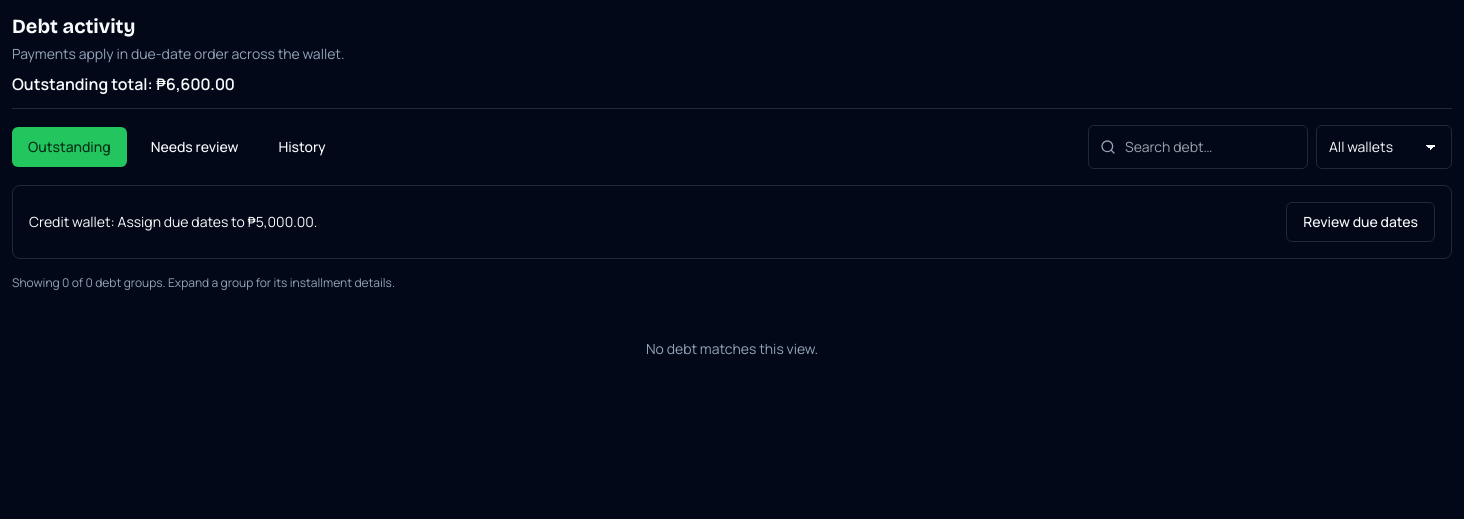
it: complete debt ledger keeps paid values and snapshot ordinal visible
Step 1. Click the button "History" → (302, 147), box 262,127 -> 342,167
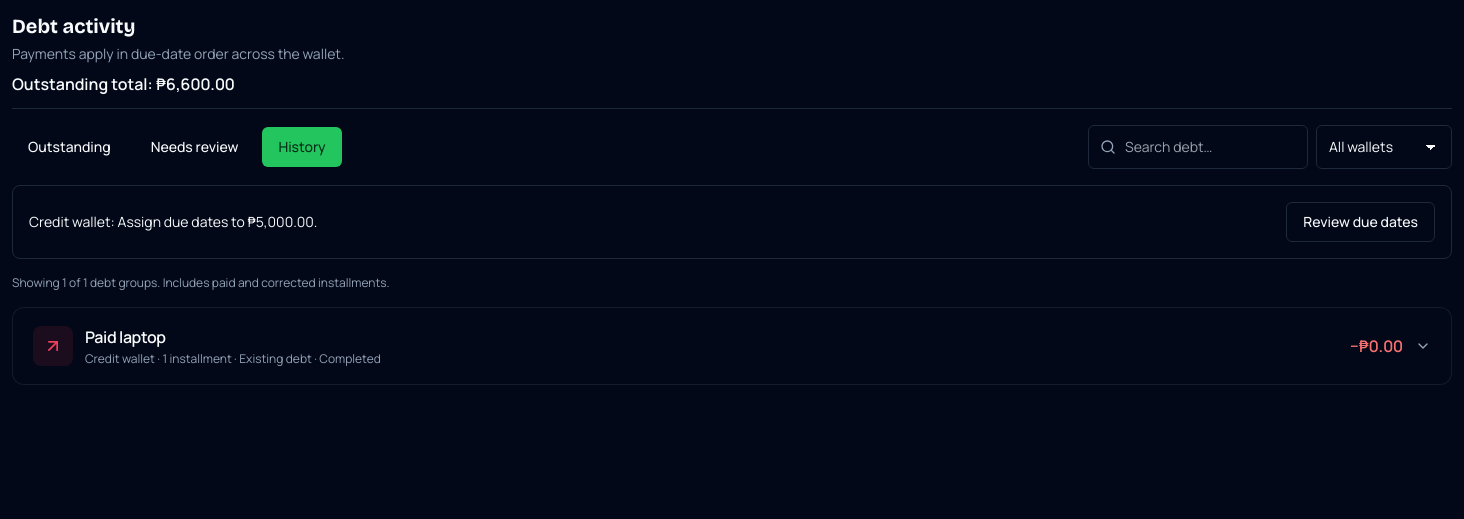
Step 2. Click the button with aria-label "show debt history for paid laptop" → (53, 346), box 33,324 -> 1431,368
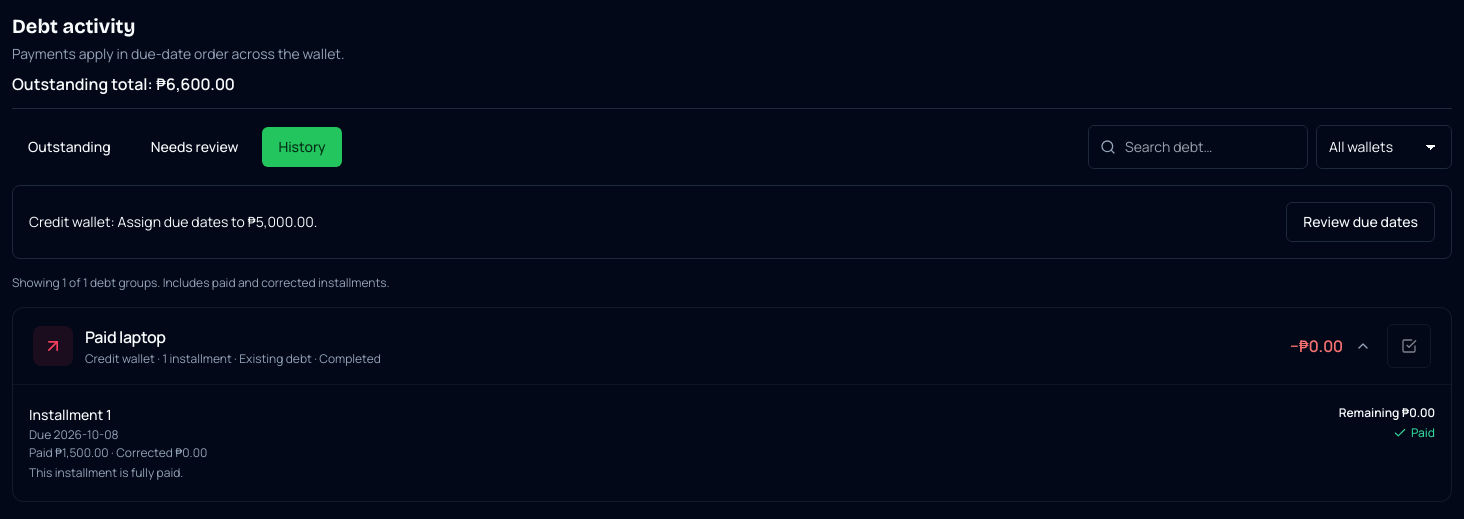
Expected: the text "Installment 1" is shown, 29,405 -> 112,424
Expected: the text "Remaining ₱0.00" is shown once, 1339,405 -> 1435,421
Expected: the text "Paid ₱1,500.00 · Corrected ₱0.00" is shown, 29,444 -> 207,461
